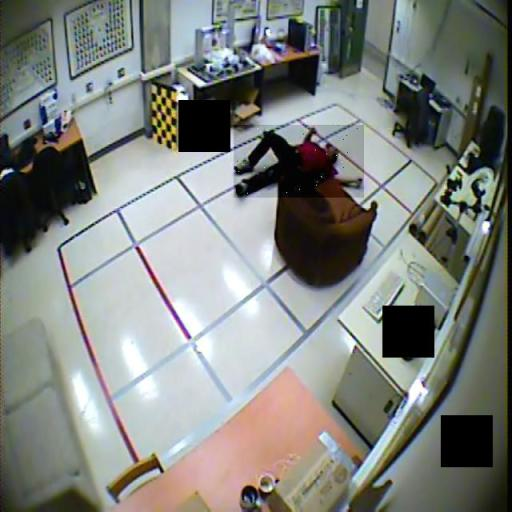Fall: (234, 125, 364, 198)
